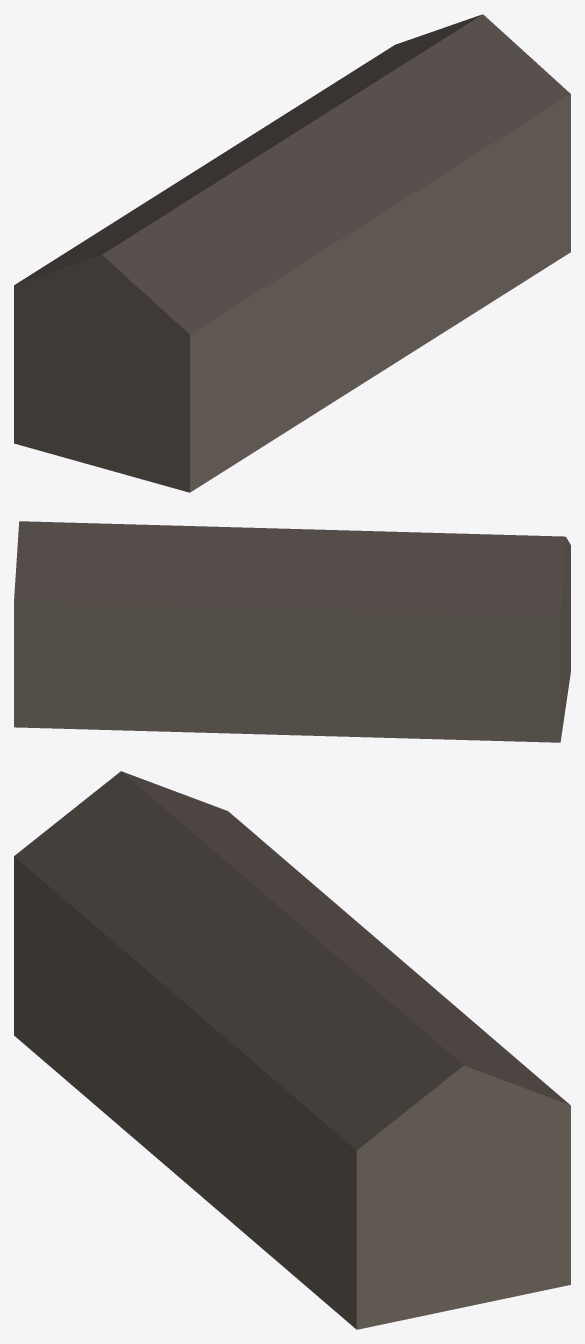
3 views of the same model, one above another, from view 1: azimuth 30°, elevation 25°; view 2: azimuth 150°, elevation 25°; view 3: azimuth 270°, elevation 25° (orthographic). The views are drawn at different scales.
Visible parts, largest first — view 1: HP-w859086203; view 2: HP-w859086203; view 3: HP-w859086203.
Boxes of the visible parts, x1=… form: HP-w859086203: x1=14, y1=14, x2=570, y2=492; HP-w859086203: x1=14, y1=521, x2=570, y2=742; HP-w859086203: x1=14, y1=771, x2=570, y2=1329.
Size of the model in its own units: 36.55 by 12.14 by 25.35.
